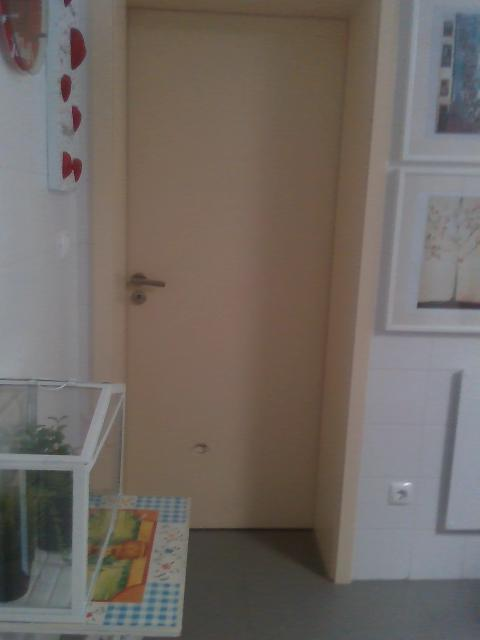door: (125, 1, 350, 530)
